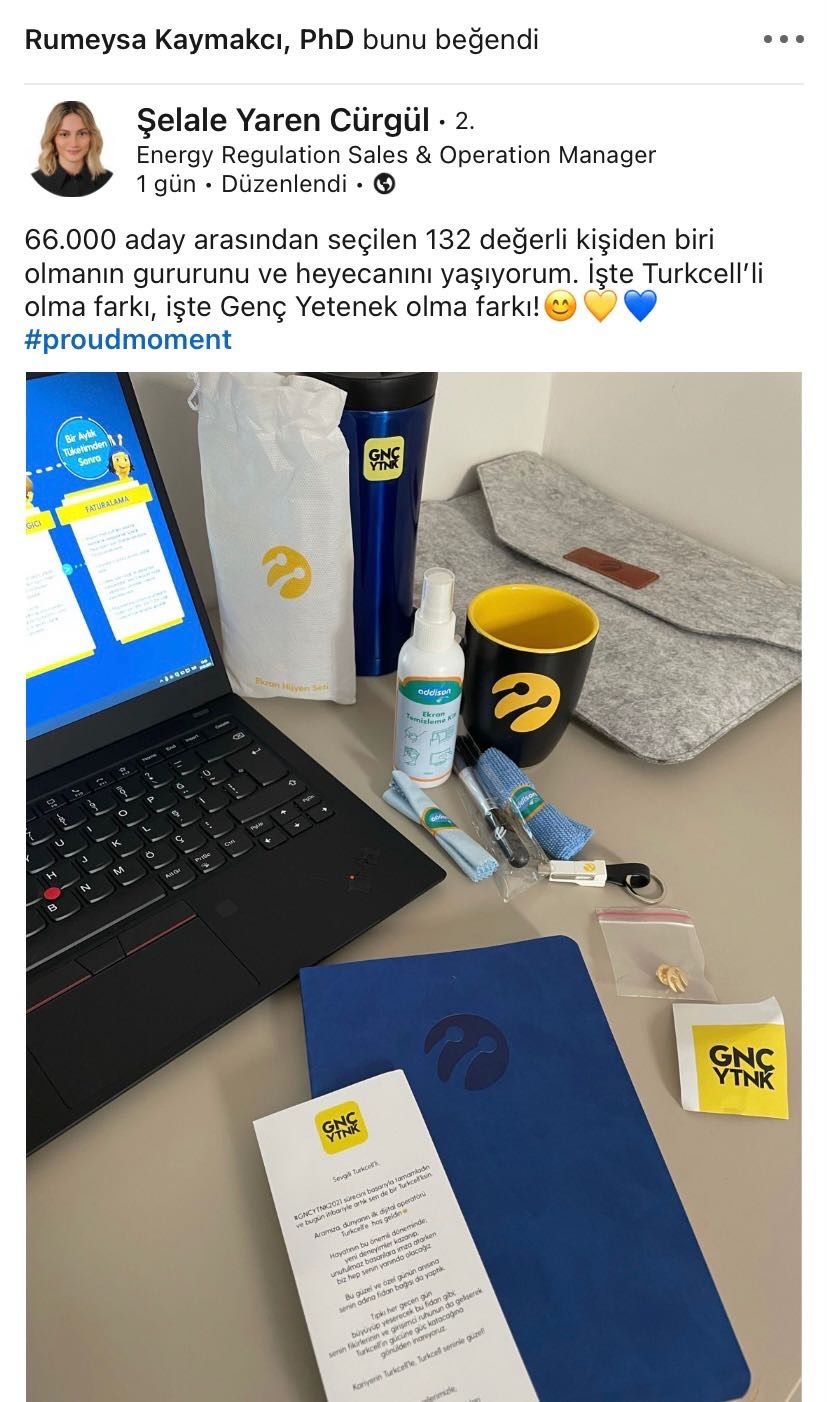turkcell: (419, 1012, 519, 1096), (488, 665, 568, 737), (258, 541, 322, 608)
